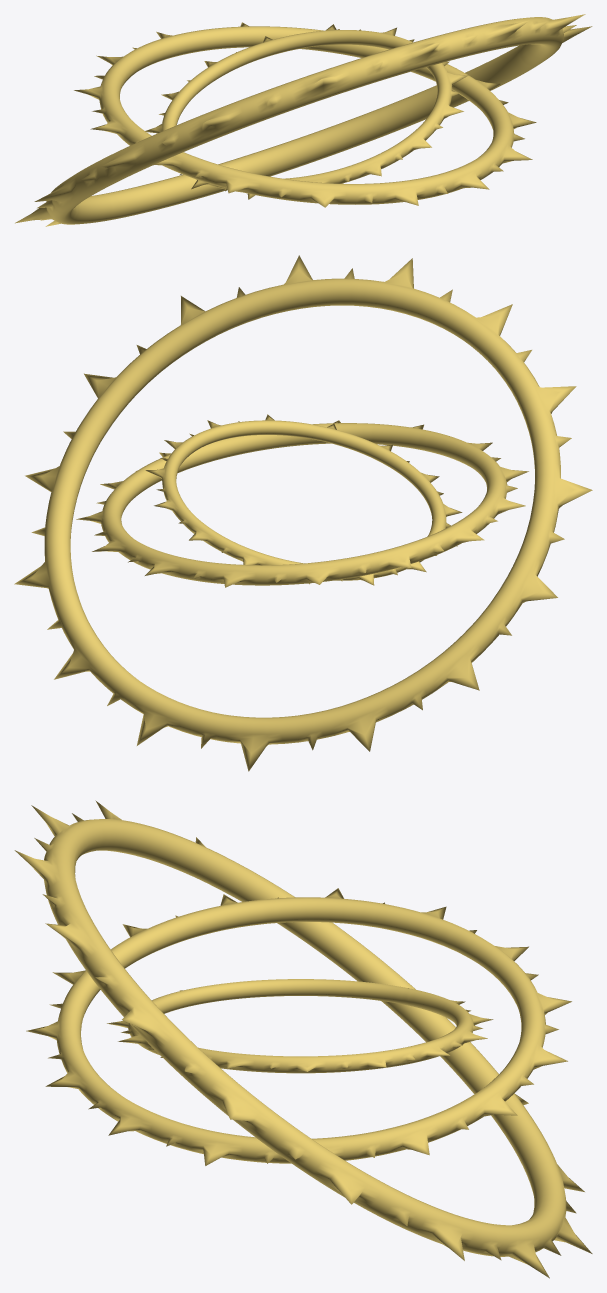
File: crown of thorns.fbx
The picture shows the model from 3 angles, top to bottom: view 1: azimuth 30°, elevation 25°; view 2: azimuth 150°, elevation 25°; view 3: azimuth 270°, elevation 25°; orthographic projection. The views are drawn at different scales.
Visible parts, largest first — view 1: crown; view 2: crown; view 3: crown.
Boxes of the visible parts, box(x1,y1,x2,y2) form: crown: box(15, 14, 592, 226); crown: box(14, 255, 592, 771); crown: box(14, 800, 592, 1278).
Bounding box in the file's own units: 53.06 × 31.42 × 42.73.
